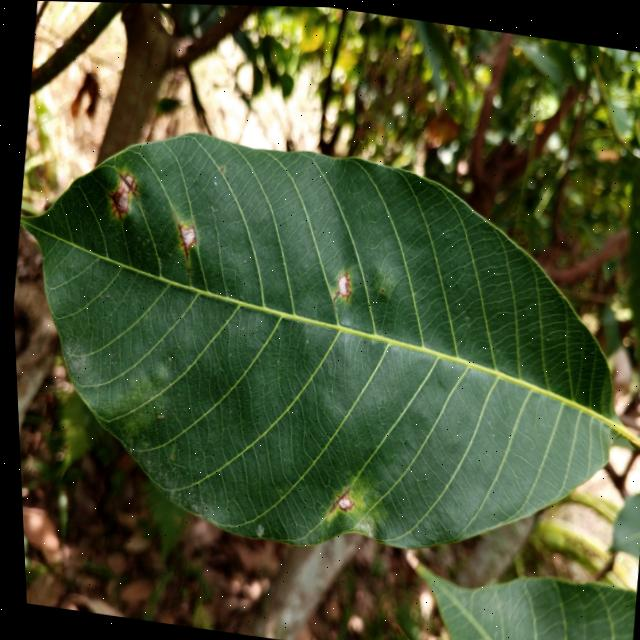Colletotrichum: (378, 286, 380, 289)
Corynespora: (171, 221, 198, 260), (329, 264, 352, 302), (323, 482, 351, 513), (114, 171, 140, 200), (102, 189, 123, 221)
Leaf-Blight: (112, 172, 131, 211), (176, 224, 194, 248), (334, 272, 349, 293), (332, 492, 350, 508)
